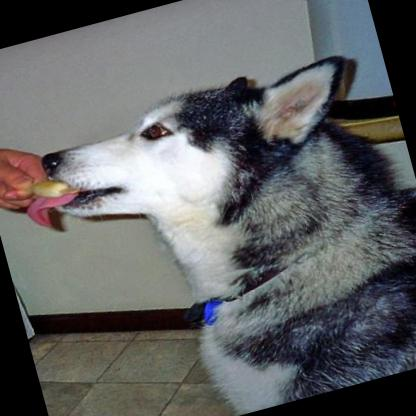Siberian_husky: (2, 36, 416, 416)
